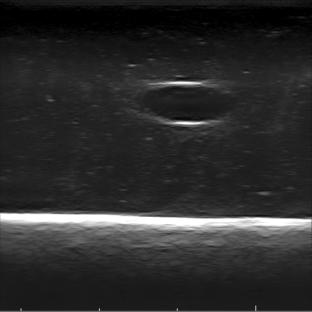vessel: (132, 80, 236, 128)
